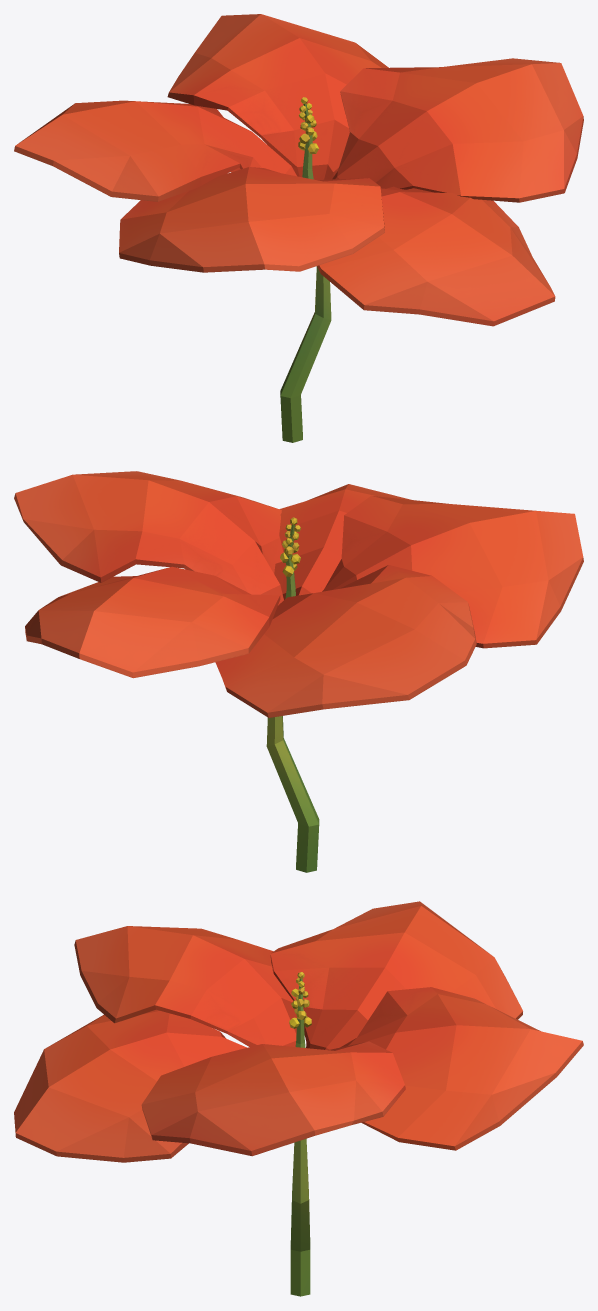
Rendered from flower4.gltf.
3 views of the same model, one above another, from view 1: azimuth 30°, elevation 25°; view 2: azimuth 150°, elevation 25°; view 3: azimuth 270°, elevation 25° (orthographic). The views are drawn at different scales.
Visible parts, largest first — view 1: node-0; view 2: node-0; view 3: node-0.
Boxes of the visible parts, x1,y1,x2,y2 form: node-0: (14, 14, 583, 442); node-0: (14, 471, 583, 872); node-0: (14, 901, 583, 1296).
Size of the model in its own units: 11.11 by 7.26 by 11.49.
Materials: 1 (1 with a texture image).
